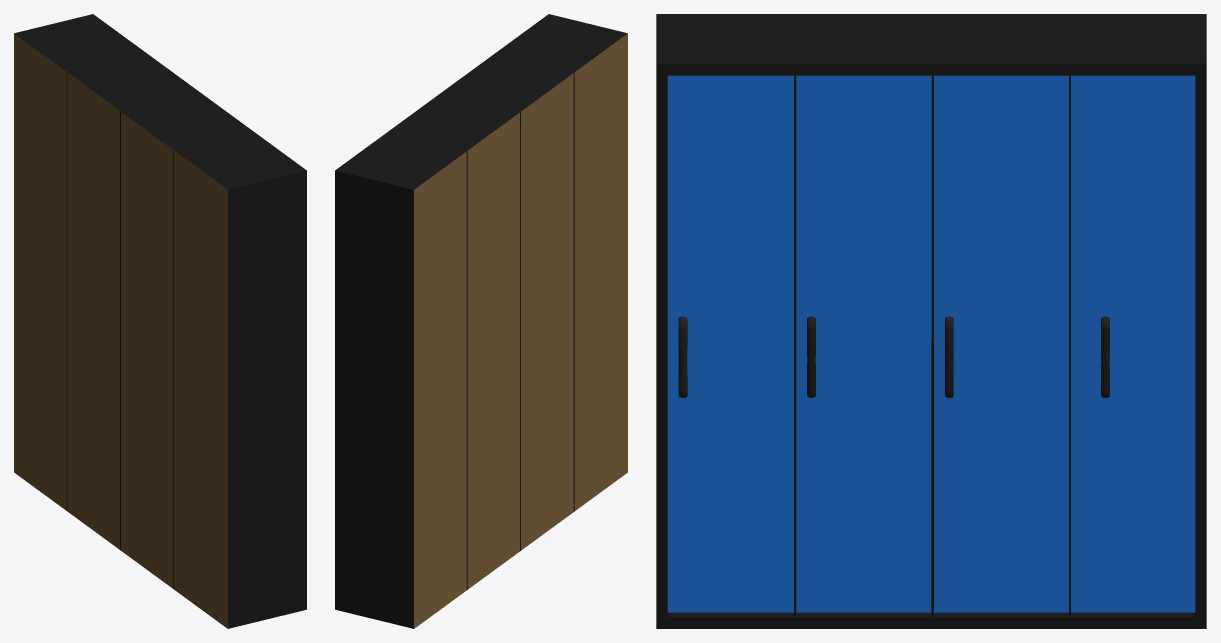
File: skrinky 1.fbx
The picture shows the model from 3 angles, left to right: view 1: azimuth 30°, elevation 25°; view 2: azimuth 150°, elevation 25°; view 3: azimuth 270°, elevation 25°; orthographic projection. The views are drawn at different scales.
Visible parts, largest first — view 1: Cube; view 2: Cube; view 3: Cube, Cube.005.
Boxes of the visible parts, x1=… form: Cube: x1=14, y1=14, x2=306, y2=628; Cube: x1=335, y1=14, x2=627, y2=628; Cube: x1=656, y1=14, x2=1206, y2=628; Cube.005: x1=678, y1=316, x2=687, y2=397.
Bounding box in the file's own units: 79.32 × 420 × 371.
